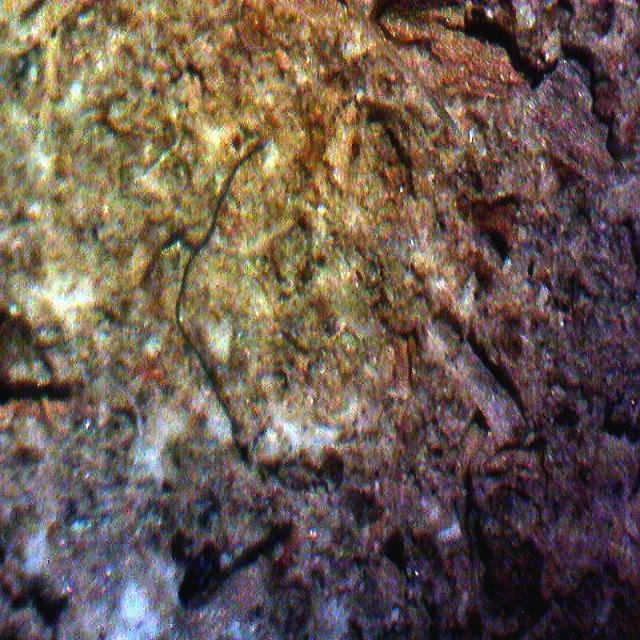microplastic: (175, 146, 259, 460)
